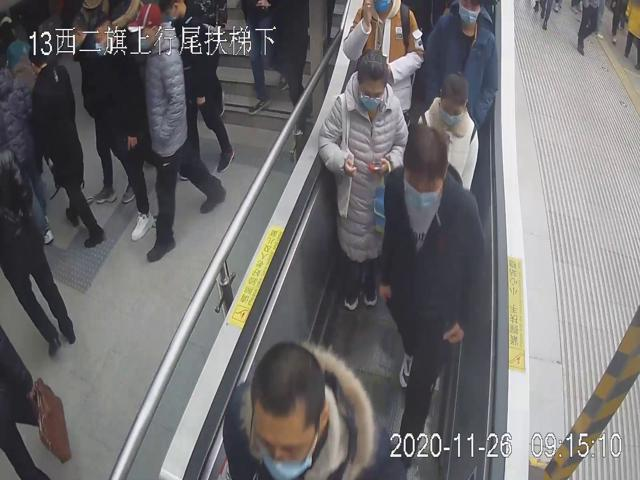person: (376, 122, 485, 446), (126, 2, 229, 262), (317, 49, 407, 316), (425, 0, 501, 129), (413, 69, 479, 198)
